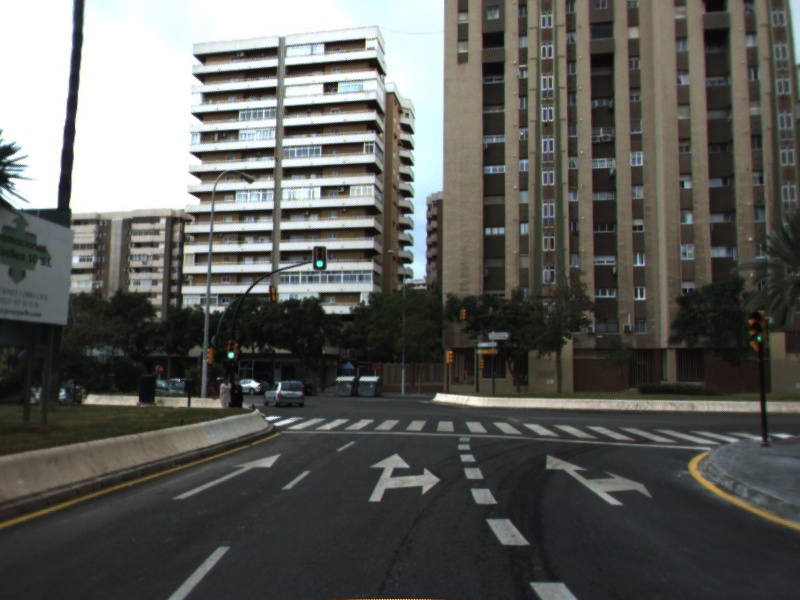STRAIGHT: (169, 450, 285, 502)
STRAIGHT_RIGHT: (544, 452, 656, 508), (365, 450, 444, 504)
